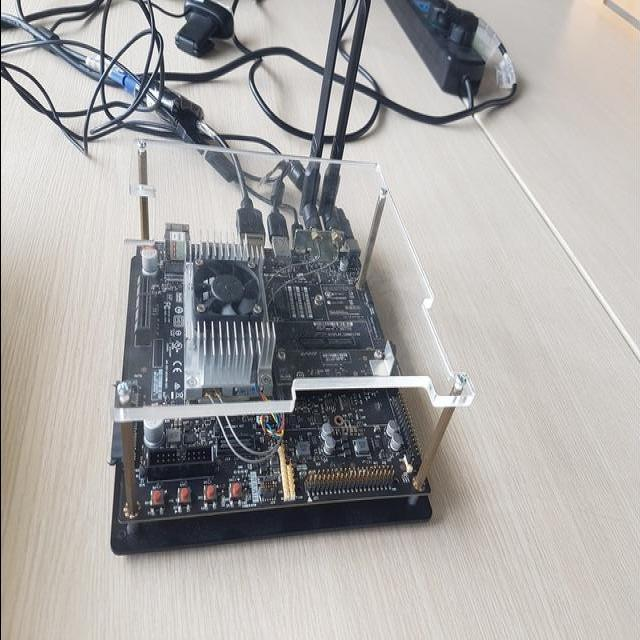Jetson TX2: (112, 1, 426, 522), (310, 1, 346, 159)
